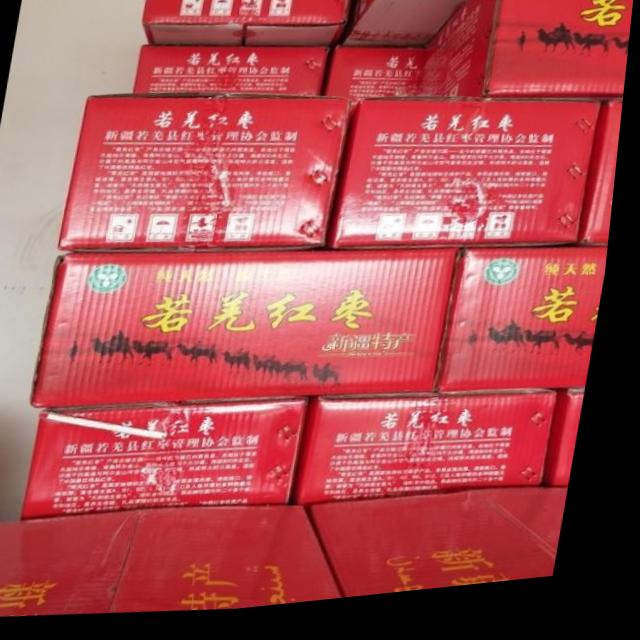box: (38, 255, 467, 411), (63, 97, 356, 258), (331, 106, 603, 258), (0, 512, 356, 618), (33, 405, 316, 519), (304, 402, 567, 513), (322, 499, 580, 606), (445, 259, 614, 402), (421, 0, 636, 109), (144, 0, 352, 53), (135, 47, 334, 101), (343, 0, 481, 57), (581, 114, 626, 259), (331, 53, 428, 105), (552, 403, 594, 502)
